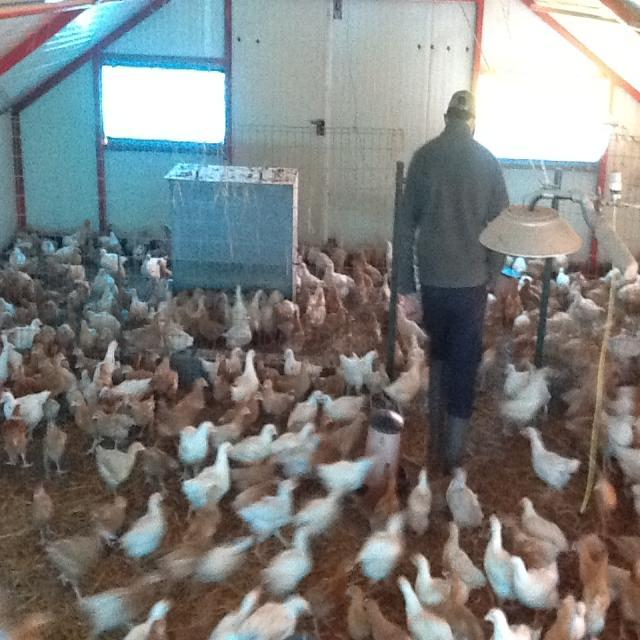poussin: (72, 563, 160, 632), (210, 590, 316, 640), (233, 476, 300, 552), (394, 570, 460, 640), (43, 518, 112, 584), (261, 522, 316, 602), (350, 510, 404, 584), (523, 426, 581, 494), (484, 508, 524, 598), (572, 535, 630, 597), (439, 564, 485, 640), (194, 534, 250, 596), (156, 371, 209, 435), (443, 519, 483, 598), (118, 491, 166, 556), (186, 440, 238, 500), (516, 497, 570, 554), (584, 542, 617, 634), (111, 592, 173, 640), (497, 378, 553, 431), (73, 390, 116, 456), (501, 510, 553, 563), (510, 552, 559, 608), (390, 348, 426, 423), (314, 453, 374, 496), (296, 488, 346, 539), (89, 444, 145, 488), (125, 304, 162, 368), (404, 547, 446, 603), (481, 605, 547, 640), (539, 592, 586, 640), (585, 460, 616, 532), (228, 476, 286, 514), (369, 460, 402, 526), (38, 415, 70, 482), (278, 434, 324, 480), (176, 417, 215, 470), (4, 384, 54, 425), (188, 484, 222, 544), (362, 594, 406, 640), (96, 372, 157, 405), (448, 466, 480, 528), (5, 403, 34, 471), (331, 411, 372, 458), (226, 452, 278, 489), (88, 408, 136, 448), (408, 464, 434, 537), (228, 427, 276, 465), (162, 536, 198, 586), (209, 398, 254, 438), (25, 352, 69, 392), (336, 348, 376, 392), (28, 480, 56, 540), (87, 494, 130, 532), (273, 298, 310, 342), (562, 286, 606, 323), (192, 304, 226, 351), (144, 440, 174, 492), (230, 348, 256, 408), (321, 253, 353, 301), (7, 316, 46, 355), (261, 289, 294, 334), (279, 356, 315, 396), (124, 392, 154, 439), (605, 412, 640, 452), (208, 342, 244, 380), (393, 302, 424, 346), (364, 360, 393, 407), (288, 386, 322, 426), (261, 372, 292, 414), (318, 391, 366, 418), (502, 362, 536, 399), (246, 286, 271, 336), (344, 582, 368, 634), (302, 287, 332, 328), (38, 322, 76, 354), (282, 347, 322, 377), (90, 304, 123, 340), (76, 365, 105, 405), (278, 420, 314, 452), (228, 306, 252, 354), (163, 316, 193, 354), (56, 258, 94, 288), (98, 340, 122, 384), (614, 442, 640, 482), (312, 367, 346, 396), (79, 313, 104, 352), (62, 216, 94, 246), (155, 360, 182, 394), (90, 260, 118, 292), (178, 284, 204, 318), (520, 274, 542, 314), (40, 286, 64, 322), (354, 248, 381, 280), (142, 248, 167, 280), (128, 232, 148, 272), (14, 298, 42, 326), (500, 291, 526, 320), (297, 258, 319, 292), (379, 237, 397, 278), (99, 245, 128, 270), (512, 306, 534, 338), (130, 280, 148, 318), (24, 339, 45, 371), (73, 343, 99, 368), (20, 275, 40, 307), (390, 335, 408, 369), (9, 239, 28, 269), (0, 291, 19, 321), (377, 272, 393, 307), (353, 270, 367, 310), (59, 241, 82, 265), (99, 226, 122, 250), (156, 255, 175, 283), (65, 289, 84, 316), (310, 248, 332, 271), (189, 294, 208, 320), (0, 341, 11, 383), (235, 286, 246, 328), (602, 265, 618, 292), (161, 286, 175, 316), (99, 286, 114, 313), (71, 367, 90, 388), (41, 234, 56, 260), (220, 293, 232, 325), (318, 413, 334, 436), (556, 268, 568, 288)
